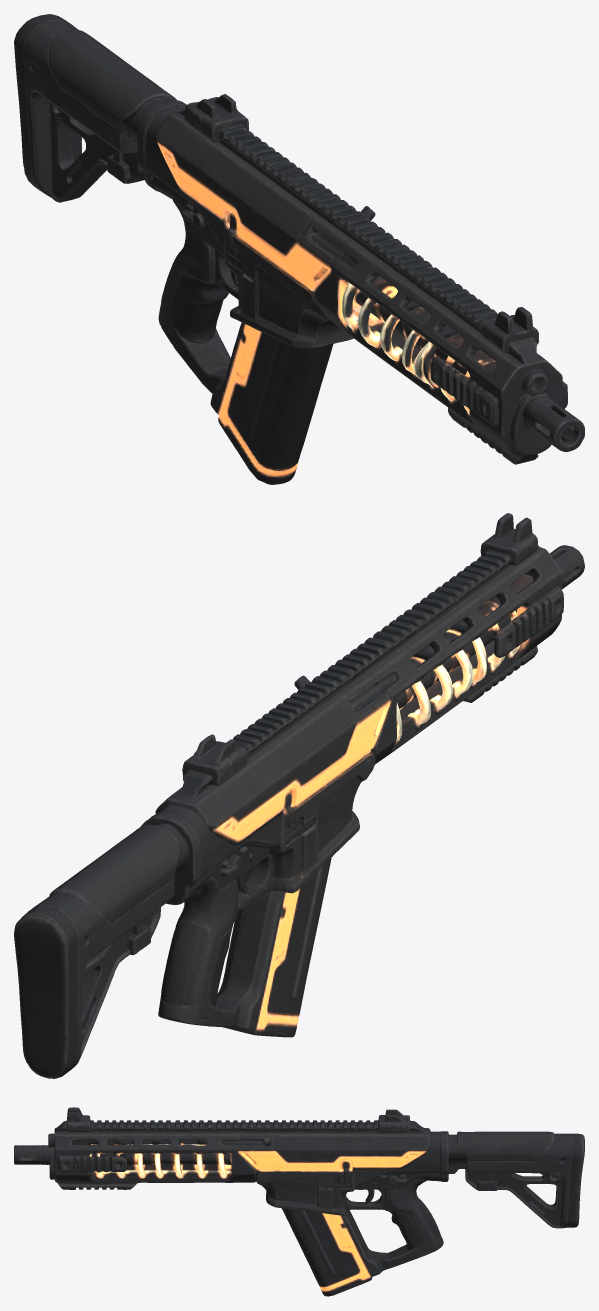
The model's file is plasma_rifle_orange.high.glb.
3 views of the same model, one above another, from view 1: azimuth 30°, elevation 25°; view 2: azimuth 150°, elevation 25°; view 3: azimuth 270°, elevation 25° (orthographic). The views are drawn at different scales.
Visible parts, largest first — view 1: model; view 2: model; view 3: model.
Part boxes in pixels (x1=…): model: x1=14, y1=14, x2=584, y2=484; model: x1=14, y1=513, x2=584, y2=1078; model: x1=14, y1=1107, x2=584, y2=1296.
Size of the model in its own units: 0.0719 by 0.302 by 0.8502.
Materials: 1 (1 with a texture image).
